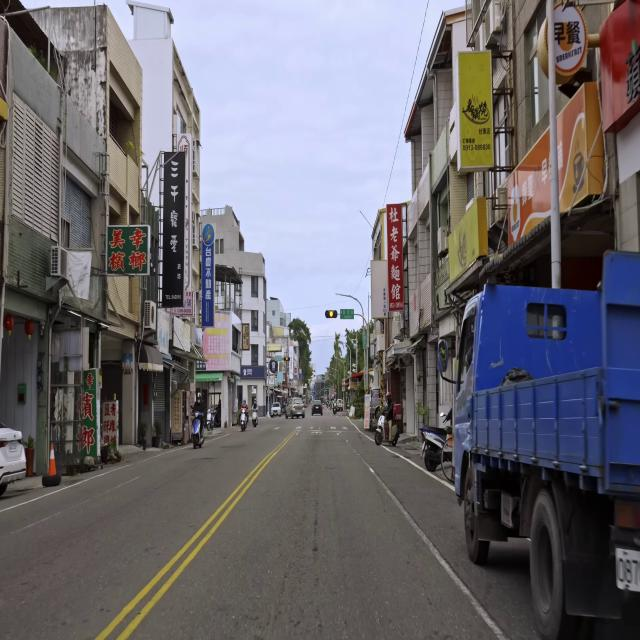yellow light: (324, 310, 338, 319), (283, 357, 290, 361)
